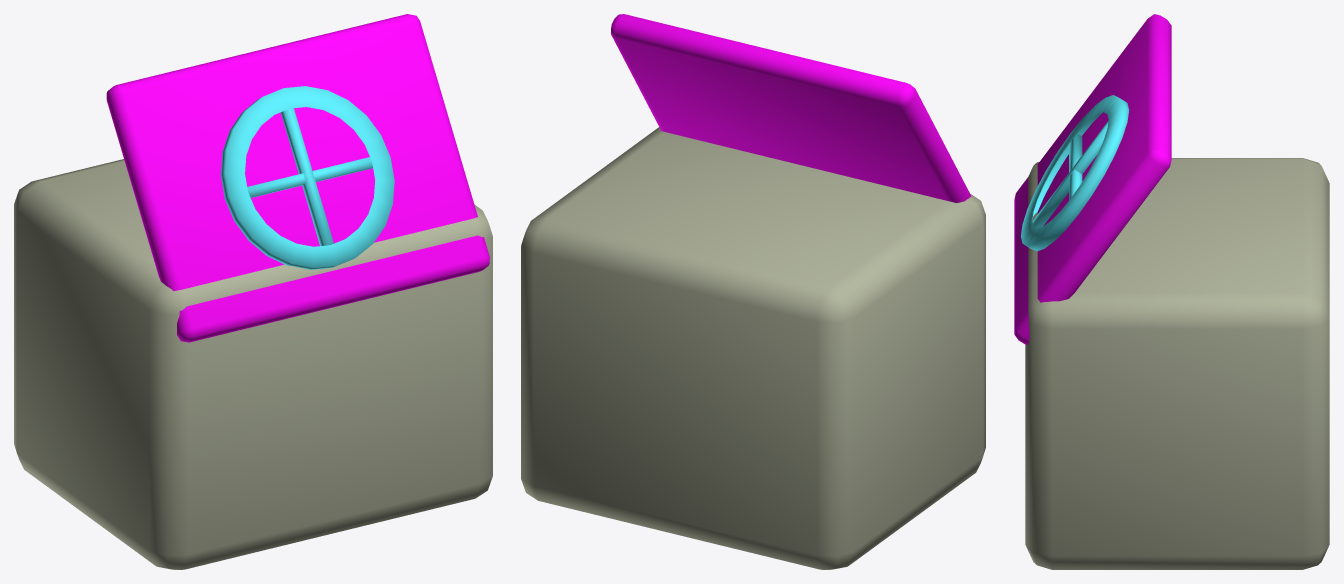
Rendered from glyph_pedestal.glb.
3 renders of one model, left to right at view 1: azimuth 30°, elevation 25°; view 2: azimuth 150°, elevation 25°; view 3: azimuth 270°, elevation 25°, orthographic. The views are drawn at different scales.
Parts seen in each view (by area): view 1: glyph_pedestal; view 2: glyph_pedestal; view 3: glyph_pedestal.
Part boxes in pixels (x1,y1,x2,y2): glyph_pedestal: (14,14,492,569); glyph_pedestal: (521,14,985,569); glyph_pedestal: (1014,14,1329,569).
Size of the model in its own units: 1.1 by 1.37 by 0.9325.
